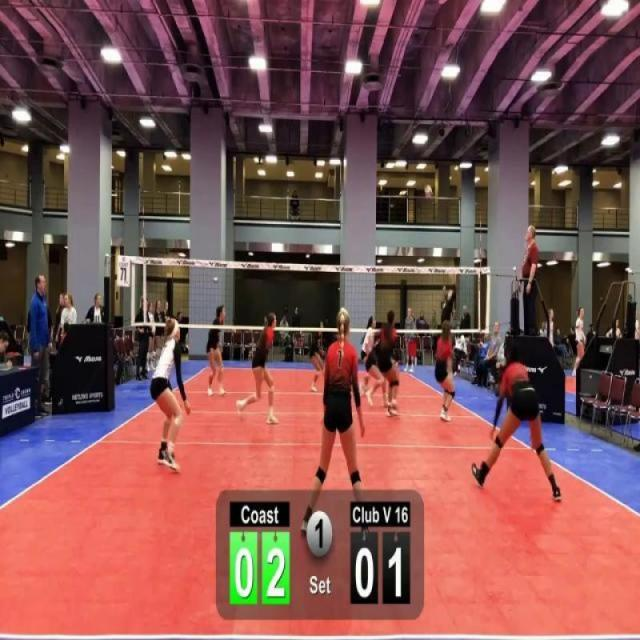volleyball: (424, 183, 434, 200)
